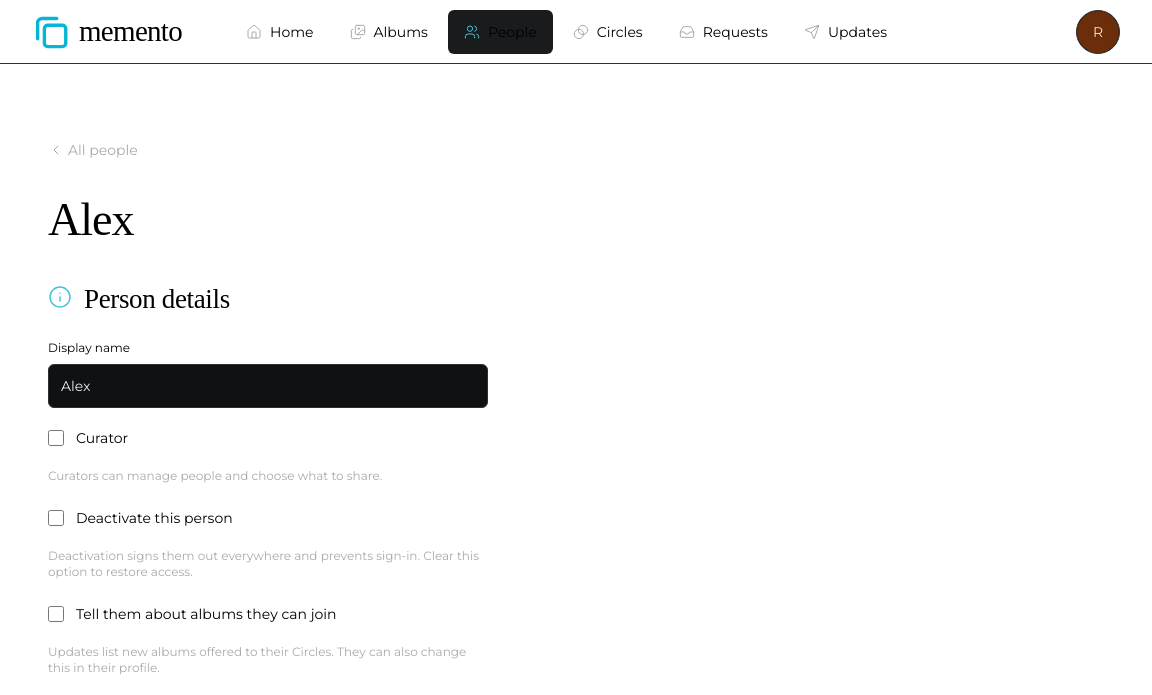
keeps successfully saved Person values when the following refresh fails
This screenshot has width=1152, height=695.
Replace the text in the field labelled "Display name" with "Saved Alex" at (268, 386), box [48,364,488,408]
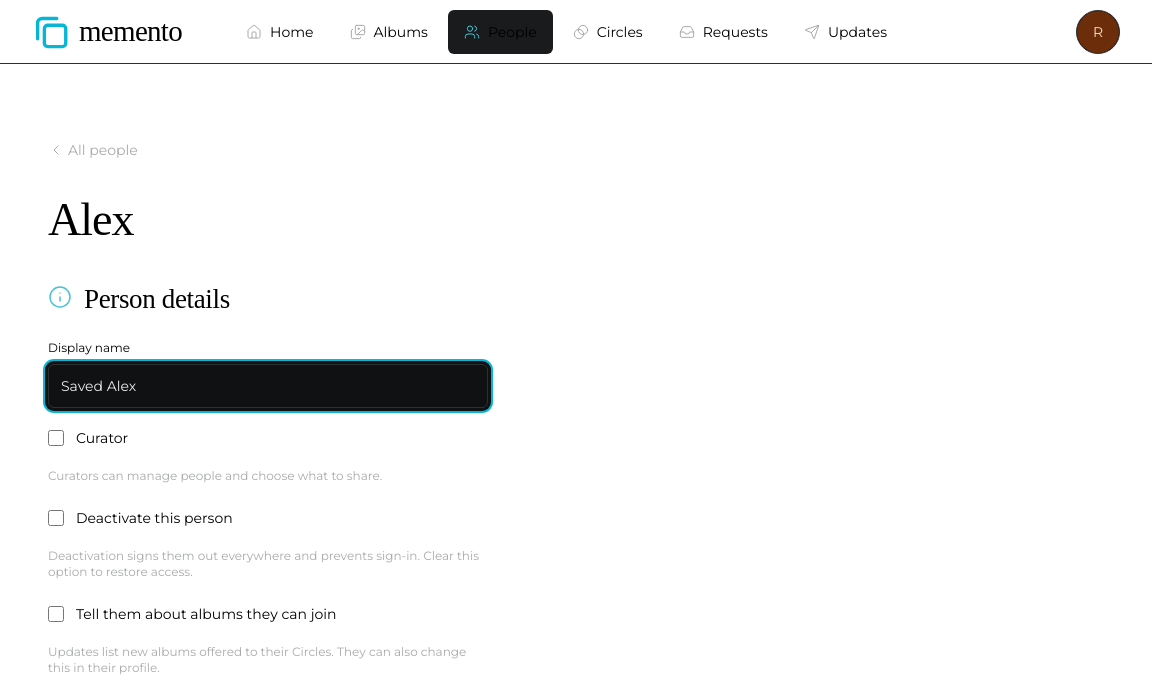
Click the checkbox labelled "Curator" at (56, 438), box [48,430,64,446]
(page scrolled)
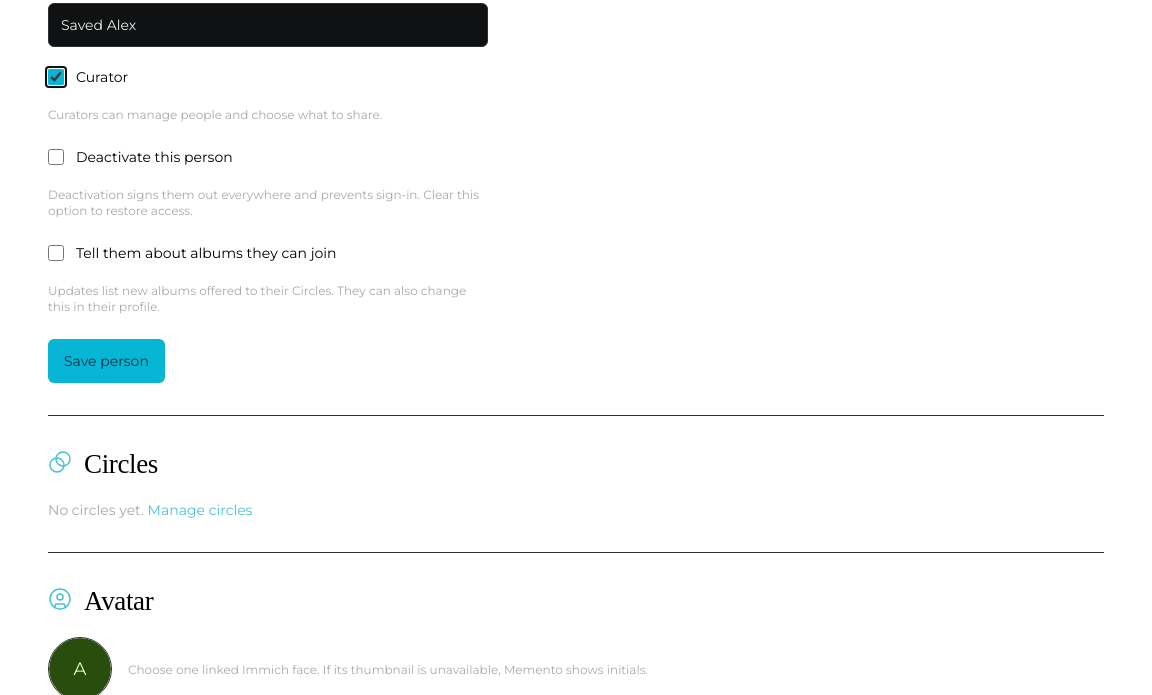
Click the button "Save person" at (106, 361), box [48,339,165,383]
(page scrolled)
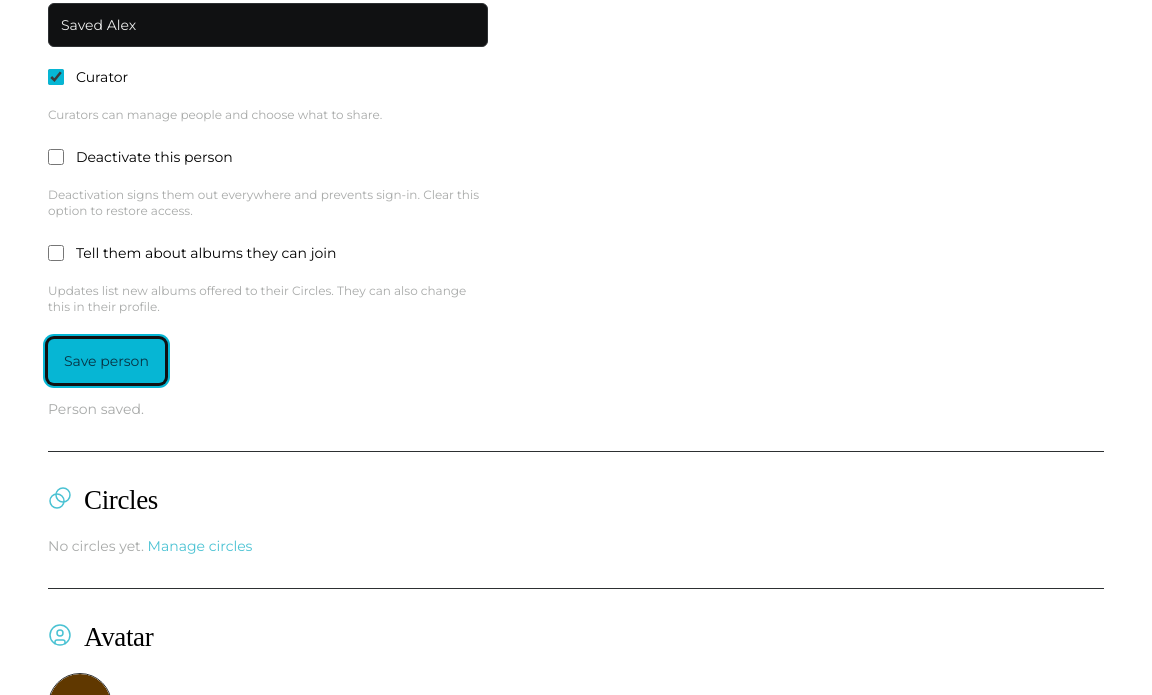
Expected: the checkbox labelled "Curator" is checked, [48,69,64,85]
Expected: the message reads "Person saved.", [48,400,144,418]
